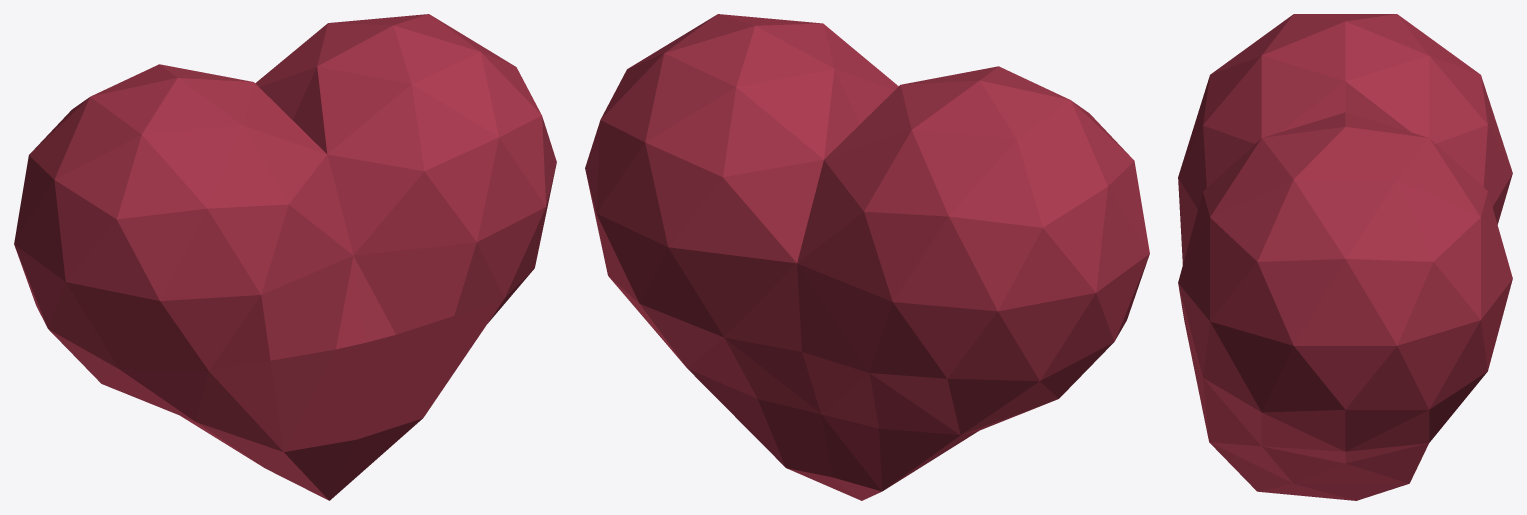
File: Heart Full.glb
3 renders of one model, left to right at view 1: azimuth 30°, elevation 25°; view 2: azimuth 150°, elevation 25°; view 3: azimuth 270°, elevation 25°, orthographic. The views are drawn at different scales.
Parts seen in each view (by area): view 1: Heart_Full; view 2: Heart_Full; view 3: Heart_Full.
Boxes of the visible parts, box(x1,y1,x2,y2) form: Heart_Full: box(14, 14, 556, 500); Heart_Full: box(585, 14, 1149, 500); Heart_Full: box(1178, 14, 1512, 500).
Size of the model in its own units: 0.9714 by 0.8057 by 0.5728.
